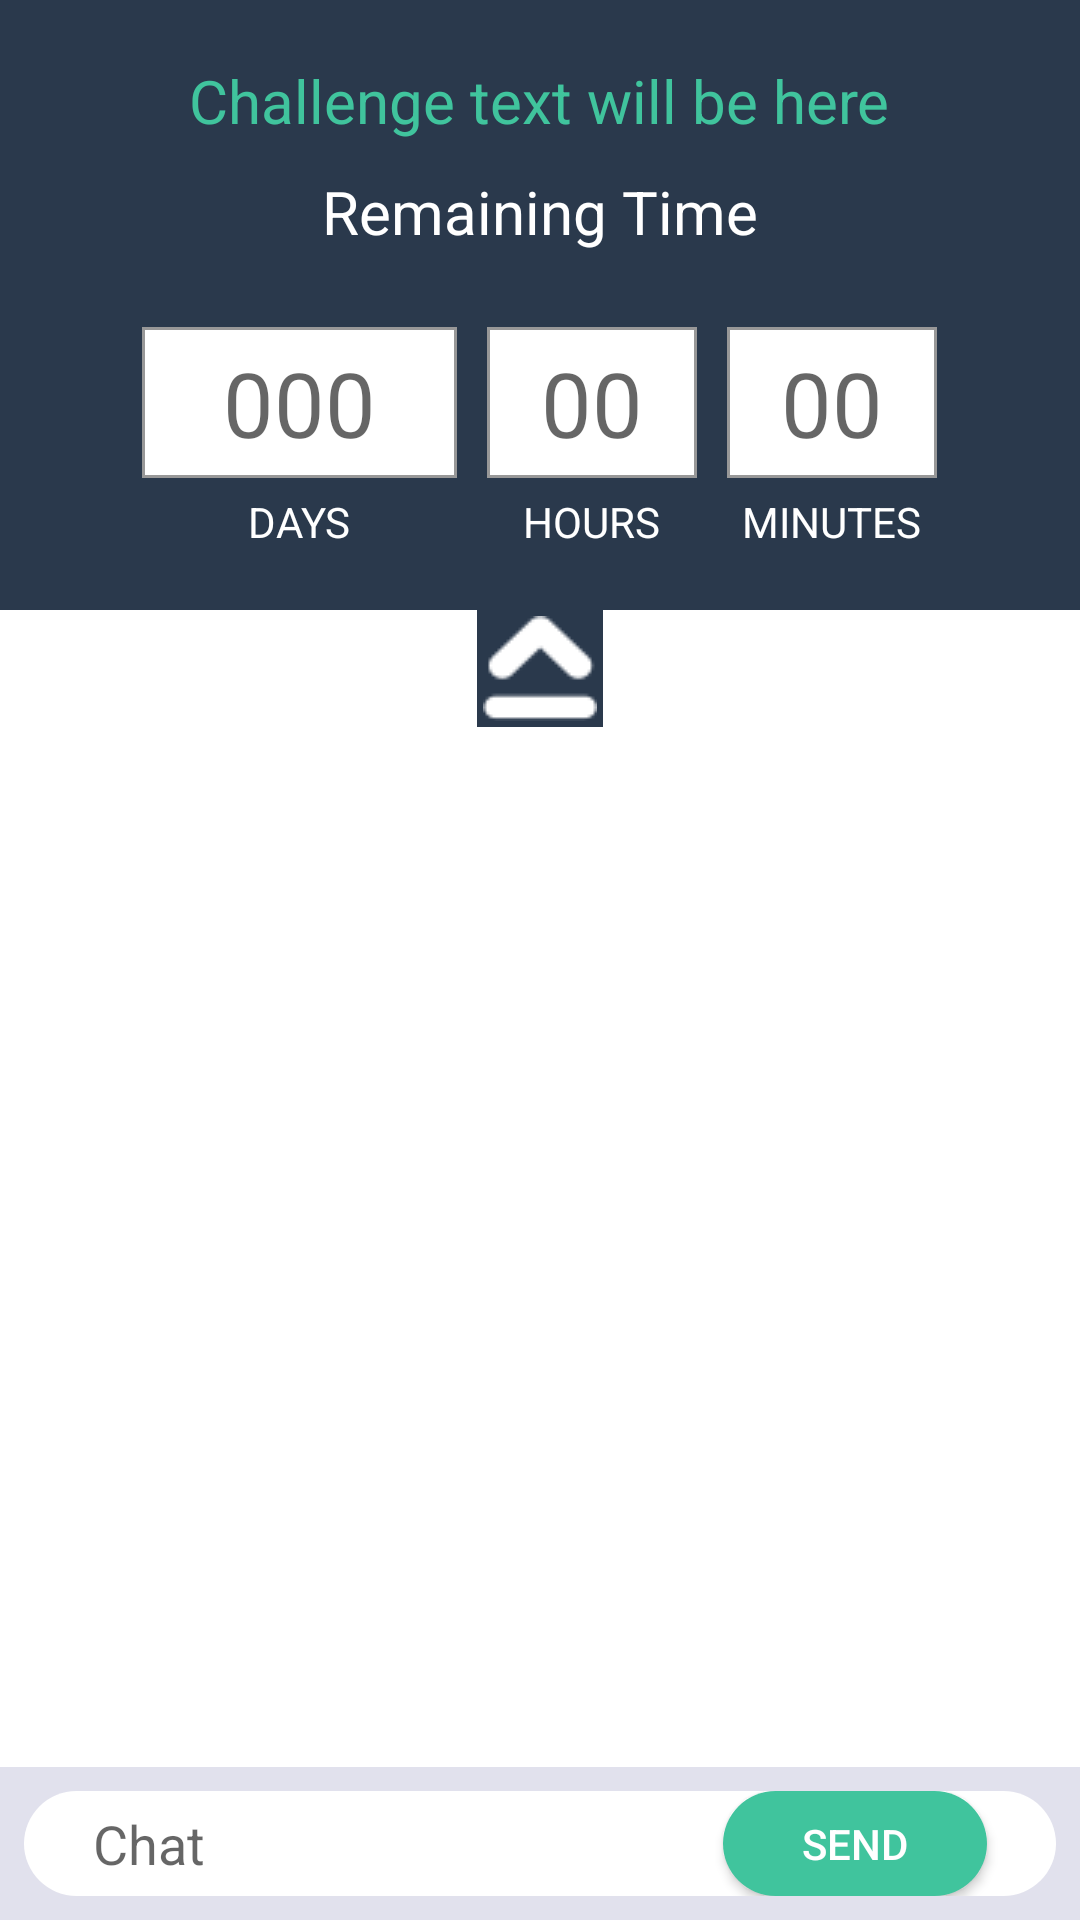

Icon bounding boxes for this 1080px x 1920px phone screenshot, format (x1, y1, x2, y2):
uparrow: (483, 616, 597, 719)
